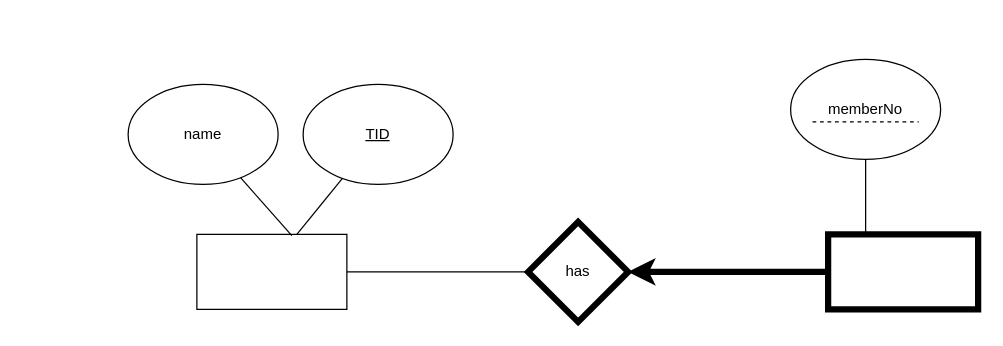
This 1003x346 diagram has some shape labels left out. Each missing label, with the centre of its shape:
Member: pixel 902 271
Team: pixel 271 271
